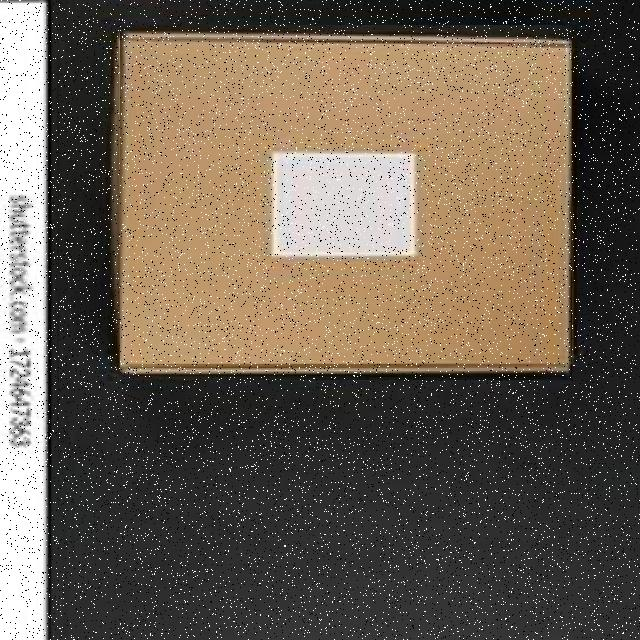normal: (120, 25, 572, 380)
